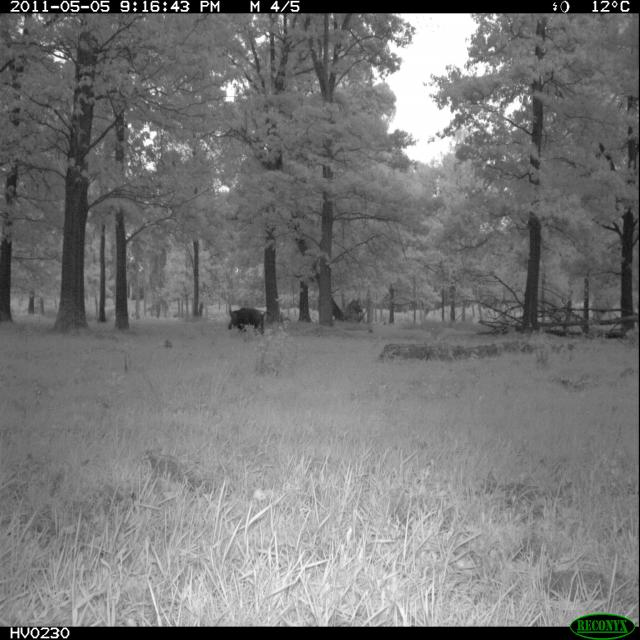boar: (216, 291, 284, 353)
